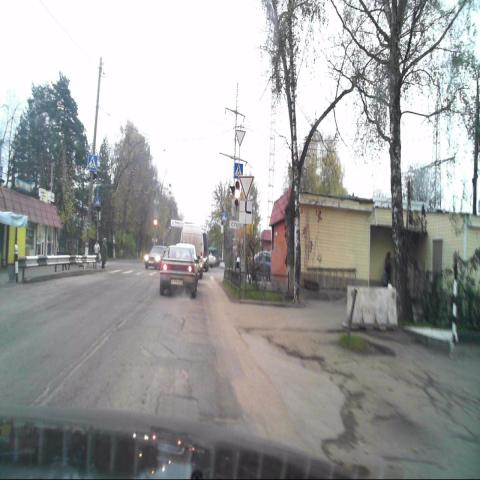2_4: (238, 175, 254, 200)
